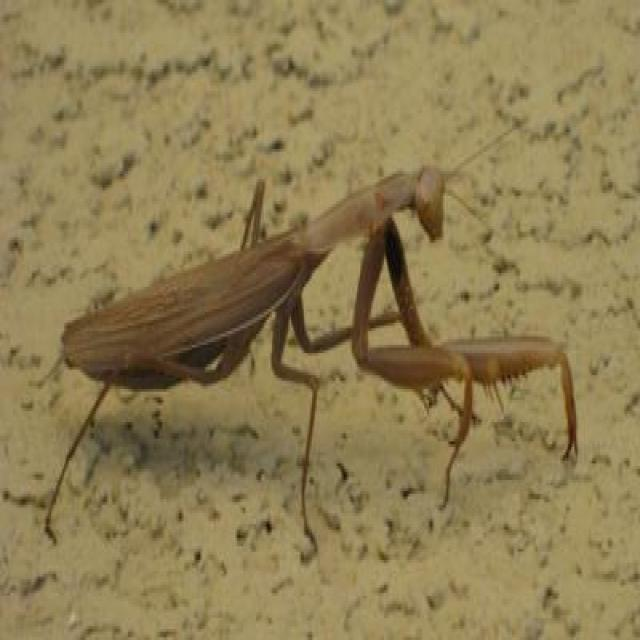antennae: (444, 119, 525, 184), (446, 187, 478, 220)
body: (59, 165, 446, 387)
insect: (43, 98, 580, 550)
legs: (385, 222, 579, 460), (354, 234, 473, 508), (44, 374, 116, 544), (272, 304, 319, 555), (293, 286, 407, 347), (241, 179, 266, 246)
mouthpart: (425, 220, 443, 243)
wings: (63, 232, 299, 373)
